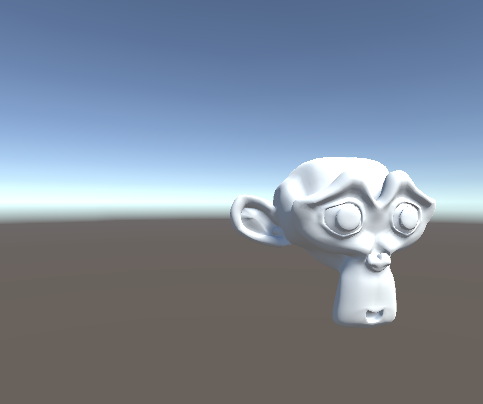monkey: (229, 154, 439, 328)
